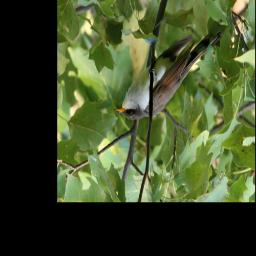Cuckoo: (116, 31, 226, 124)
